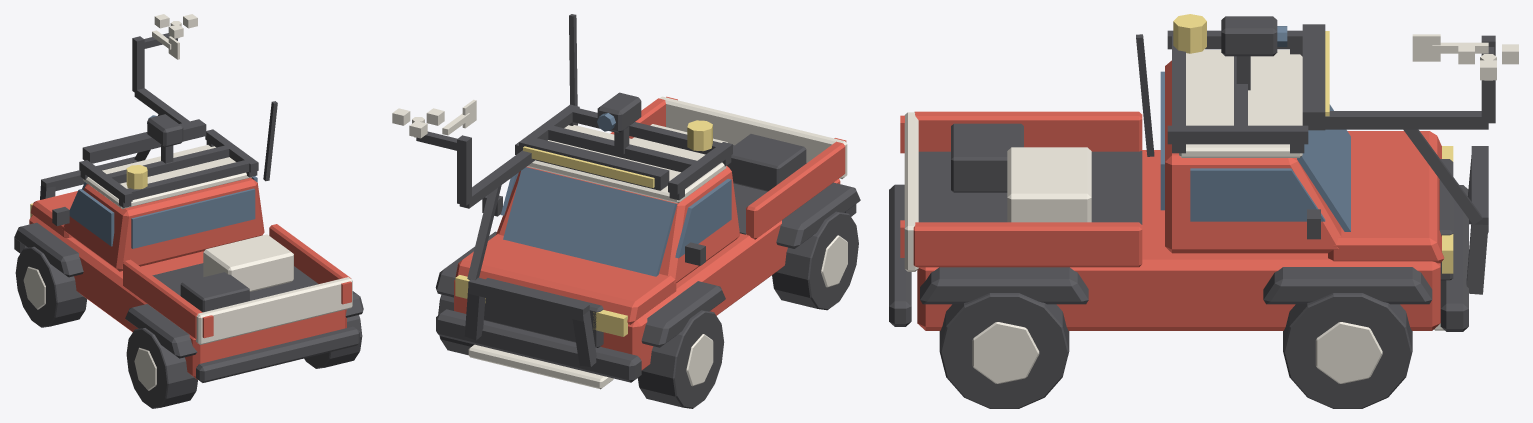
The model's file is Pickup.fbx.
3 views of the same model, side by side, from view 1: azimuth 30°, elevation 25°; view 2: azimuth 150°, elevation 25°; view 3: azimuth 270°, elevation 25° (orthographic). The views are drawn at different scales.
Parts seen in each view (by area): view 1: LowerBody, Cab, Tailgate, RearWindow, Wheel_FL, Wheel_RL, GearCase, RearBumper, BedSideL, Roof, GearCrate, LightBarHousing (+17 smaller); view 2: Windshield, Hood, LowerBody, Wheel_RL, Wheel_FL, FrontBumper, BedSideL, Tailgate, Cab, GearCrate, Roof, Grille (+26 smaller); view 3: LowerBody, Wheel_RR, Wheel_FR, Hood, BedSideR, Cab, Roof, BedFloor, BedSideL, GearCase, SideWindowR, Flare.001 (+22 smaller).
Boxes of the visible parts, box(x1,y1,x2,y2) form: LowerBody: box(29, 215, 346, 379); Cab: box(62, 178, 264, 271); Tailgate: box(196, 277, 352, 344); RearWindow: box(131, 188, 255, 248); Wheel_FL: box(15, 246, 87, 327); Wheel_RL: box(126, 328, 197, 408); GearCase: box(203, 234, 293, 291); RearBumper: box(196, 326, 359, 382); BedSideL: box(123, 259, 202, 338); Roof: box(83, 145, 252, 209); GearCrate: box(180, 272, 249, 312); LightBarHousing: box(82, 119, 206, 163); Windshield: box(503, 167, 677, 276); Hood: box(455, 233, 676, 324); LowerBody: box(454, 179, 840, 370); Wheel_RL: box(772, 211, 858, 310); Wheel_FL: box(637, 310, 724, 408); FrontBumper: box(436, 309, 641, 382); BedSideL: box(746, 141, 845, 239); Tailgate: box(659, 96, 847, 178); Cab: box(496, 166, 739, 283); GearCrate: box(727, 134, 806, 191); Roof: box(527, 125, 726, 203); Grille: box(484, 278, 603, 347); LowerBody: box(917, 150, 1440, 330); Wheel_RR: box(939, 293, 1069, 408); Wheel_FR: box(1283, 293, 1412, 408); Hood: box(1328, 131, 1444, 263); BedSideR: box(913, 222, 1142, 267); Cab: box(1165, 60, 1341, 253); Roof: box(1179, 50, 1302, 157); BedFloor: box(918, 151, 1142, 224); BedSideL: box(914, 111, 1142, 151); GearCase: box(1007, 147, 1091, 222); SideWindowR: box(1190, 168, 1325, 221); Flare.001: box(1263, 267, 1432, 304).
Bounding box in the file's own units: 1.31 × 1.4 × 2.24.
